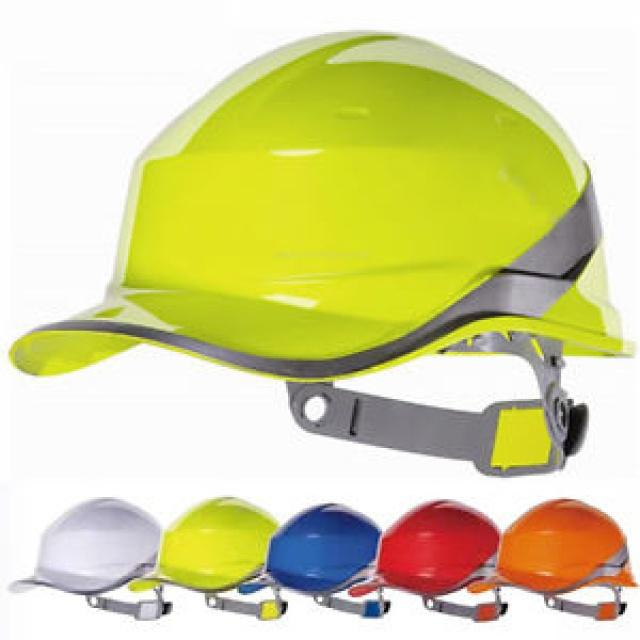helmet: (15, 25, 629, 540)
